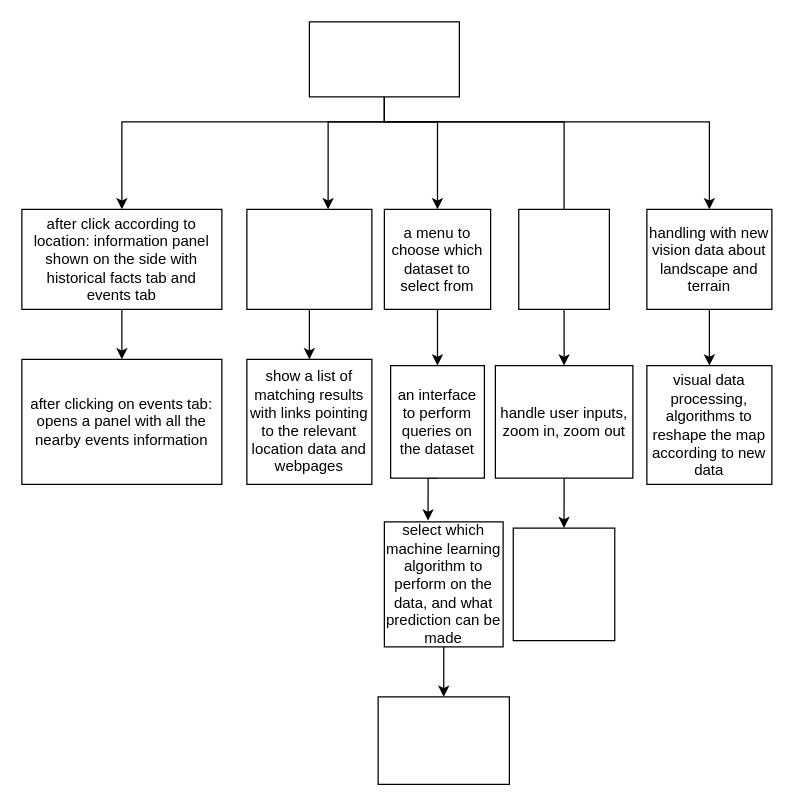
Some shapes in this 794 by 806 pixel diagram are drawn without their labels. Each missing label, with the centre of its shape:
a search option based on keywords and coordinates: the point at 309,258
entry point: entire map and side panel: the point at 383,59
interactions with map, real time rendering: the point at 563,258
make the map change dynamically based on user's location: the point at 563,584
visualize prediction and dataset: the point at 443,740
